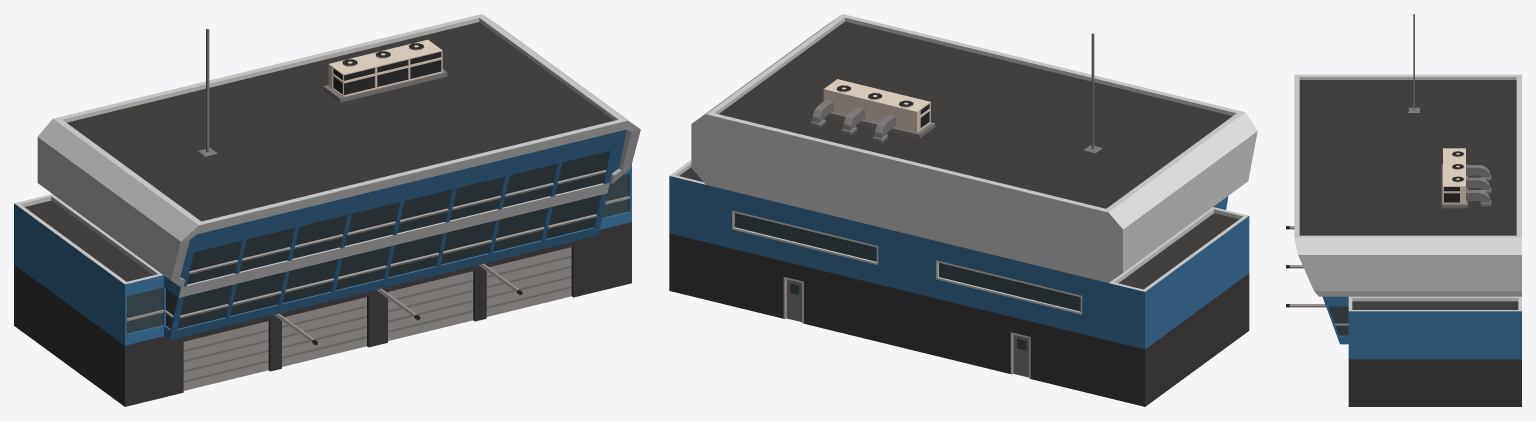
Rendered from racing_building-race-track.fbx.
The picture shows the model from 3 angles, left to right: view 1: azimuth 30°, elevation 25°; view 2: azimuth 150°, elevation 25°; view 3: azimuth 270°, elevation 25°; orthographic projection. The views are drawn at different scales.
Parts seen in each view (by area): view 1: racing_building_race_track; view 2: racing_building_race_track; view 3: racing_building_race_track.
Boxes of the visible parts, x1,y1,x2,y2 form: racing_building_race_track: [14, 14, 640, 406]; racing_building_race_track: [669, 14, 1257, 406]; racing_building_race_track: [1286, 14, 1521, 406].
Size of the model in its own units: 200 by 119 by 103.
